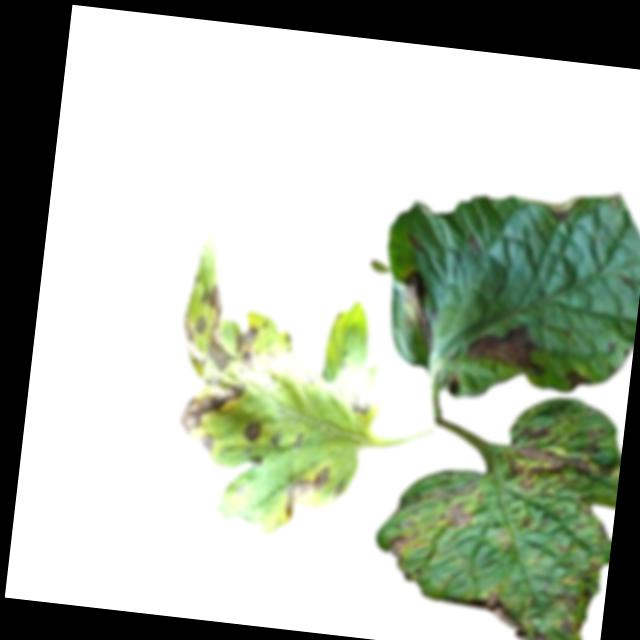Early_blight: (171, 278, 271, 442), (501, 417, 615, 501), (464, 318, 553, 376), (481, 585, 562, 640), (397, 266, 447, 348), (557, 556, 603, 638), (422, 472, 486, 530), (285, 463, 332, 522), (384, 530, 417, 567), (344, 385, 373, 416), (563, 365, 595, 391), (242, 418, 263, 444), (199, 430, 218, 454)
